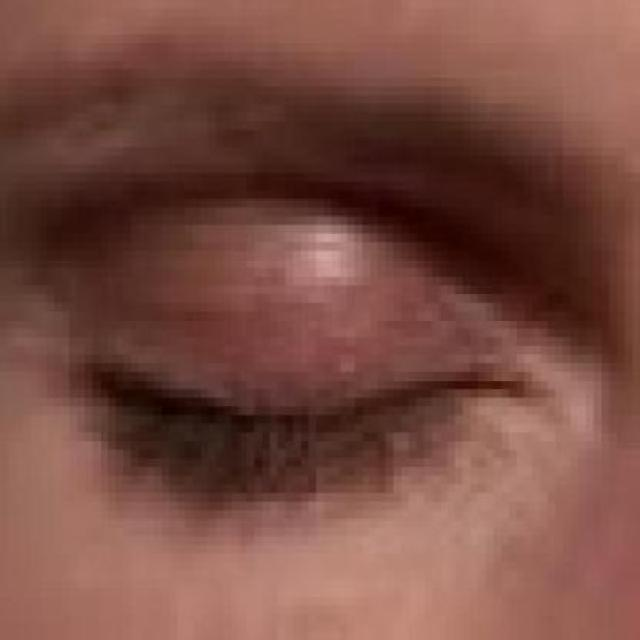drowsy: (81, 291, 534, 544)
